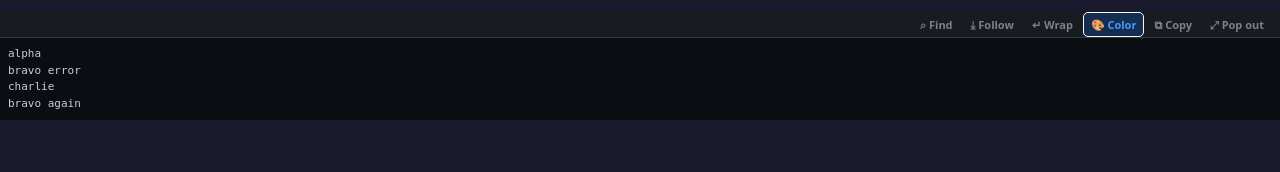
RunOutputView find › opens the find box when Find is clicked
Click the button with test id "run-output-btn-find".
click(936, 24)  # box x1=912 y1=12 x2=961 y2=37
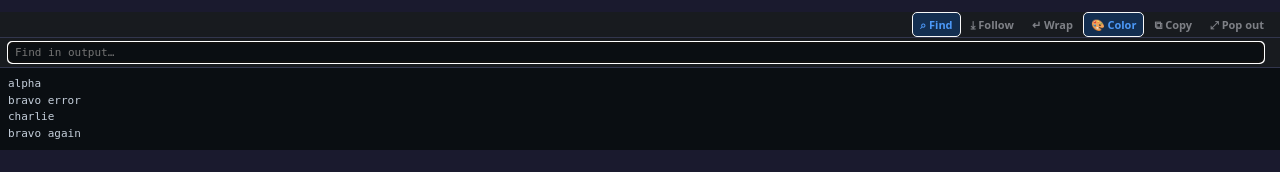
expect the field with test id "run-output-find-input" is shown: met, box x1=8 y1=42 x2=1264 y2=63
